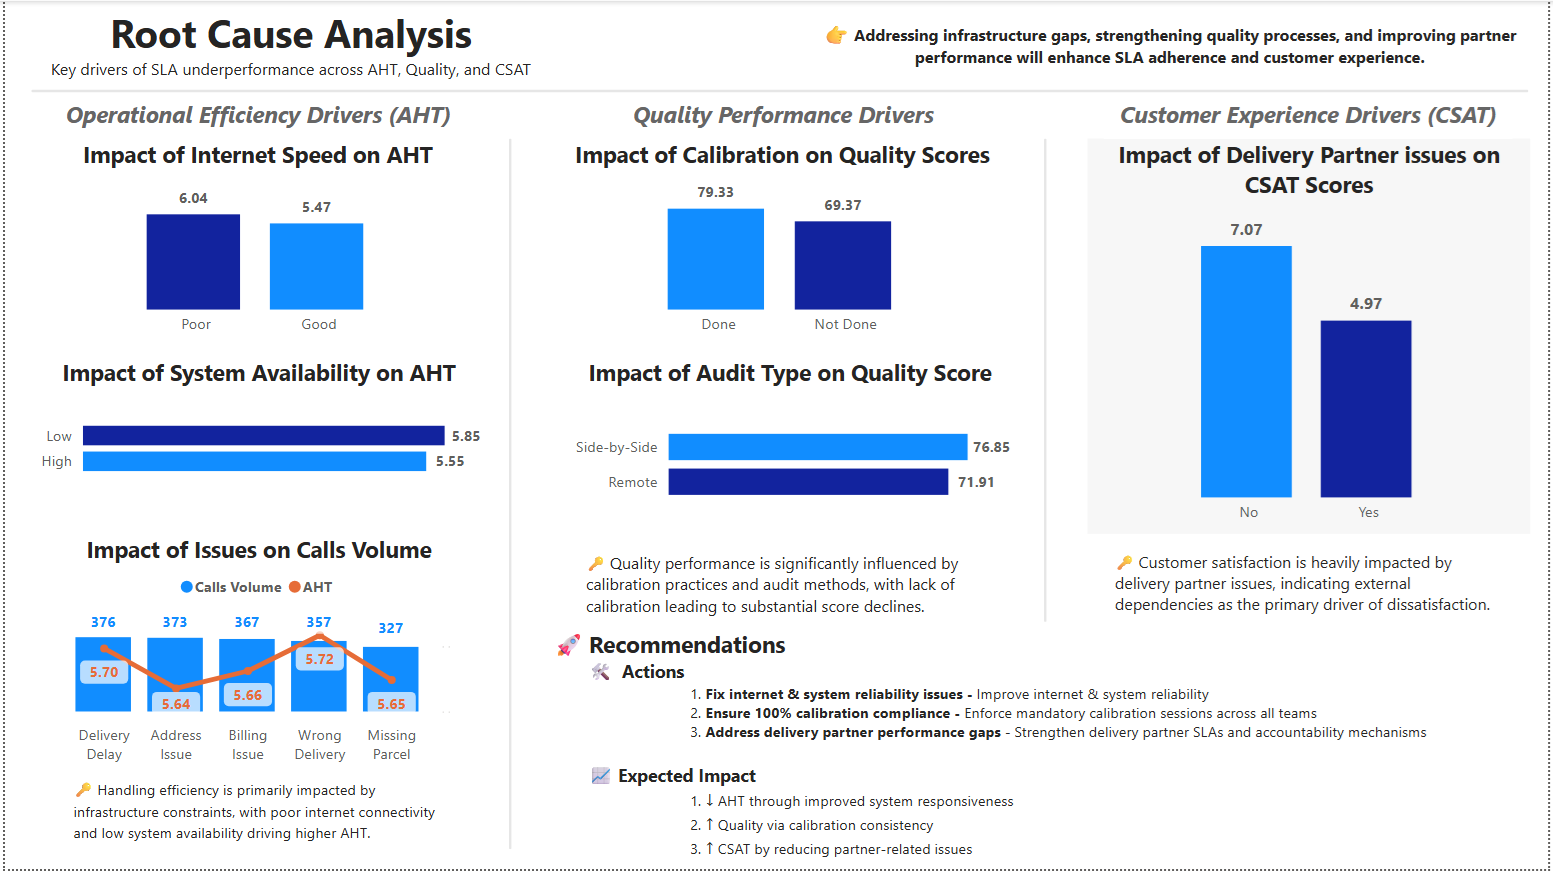

Layout of this report page (visuals, bound fields, positions):
{"tool":"powerbi","page":{"name":"RCA","canvas":[1280,720],"ordinal":2},"visuals":[{"type":"textbox","box":[10.5,0,453.5,76.7],"z":0},{"type":"shape","box":[412.8,114,12.8,589.5],"z":1000},{"type":"textbox","box":[40.7,76.6,339.5,37.2],"z":2000},{"type":"lineClusteredColumnComboChart","title":"Impact of Issues on Calls Volume","fields":{"Category":["Process_Data.Issue_Type"],"Y":["CountNonNull(Process_Data.Call_Volume)"],"Y2":["_Measures.AHT"]},"box":[22.1,441.9,377.9,198.8],"z":3000},{"type":"clusteredBarChart","title":"Impact of Audit Type on Quality Score","fields":{"Category":["Process_Data.Audit_Type"],"Y":["_Measures.Quality Score"]},"box":[464,295.3,375.6,146.5],"z":4000},{"type":"clusteredColumnChart","title":"Impact of Calibration on Quality Scores","fields":{"Category":["Process_Data.Calibration_Status"],"Y":["_Measures.Quality Score"]},"box":[450,114,389.5,172.1],"z":5000},{"type":"clusteredColumnChart","title":"Impact of Internet Speed on AHT","fields":{"Category":["Process_Data.Internet_Speed"],"Y":["_Measures.AHT"]},"box":[20.9,114,377.9,172.1],"z":6000},{"type":"clusteredBarChart","title":"Impact of System Availability on AHT","fields":{"Y":["_Measures.AHT"],"Category":["Process_Data.System_Availability"]},"box":[21.8,295.3,377.9,119.8],"z":7000},{"type":"clusteredColumnChart","title":"Impact of Delivery Partner issues on CSAT Scores","fields":{"Category":["Process_Data.Partner_Issue"],"Y":["_Measures.CSAT Score"]},"box":[897.7,114,367.4,327.9],"z":8000},{"type":"shape","box":[857,114,12.8,401.2],"z":9000},{"type":"textbox","box":[476.2,76.6,339.5,37.2],"z":10000},{"type":"textbox","box":[911.6,76.6,339.5,37.2],"z":11000},{"type":"textbox","box":[52.3,639.5,318.6,64],"z":12000},{"type":"textbox","box":[476.7,452.3,334.9,64],"z":13000},{"type":"textbox","box":[915.1,451.2,331.4,64],"z":14000},{"type":"textbox","box":[450,516.3,815.1,203.5],"z":15000},{"type":"shape","box":[22.1,65.1,1241.9,18.6],"z":16000},{"type":"textbox","box":[666.3,10.5,598.8,54.7],"z":17000}]}

Visuals, with their boxes in screenshot pixels (x1, y1, x2, y2), scaled from the page's 1280x720 canvas onto the 1553x875 screenshot:
textbox: box=[13, 0, 563, 93]
shape: box=[501, 139, 516, 855]
textbox: box=[49, 93, 461, 138]
"Impact of Issues on Calls Volume" lineClusteredColumnComboChart: box=[27, 537, 485, 779]
"Impact of Audit Type on Quality Score" clusteredBarChart: box=[563, 359, 1019, 537]
"Impact of Calibration on Quality Scores" clusteredColumnChart: box=[546, 139, 1019, 348]
"Impact of Internet Speed on AHT" clusteredColumnChart: box=[25, 139, 484, 348]
"Impact of System Availability on AHT" clusteredBarChart: box=[26, 359, 485, 504]
"Impact of Delivery Partner issues on CSAT Scores" clusteredColumnChart: box=[1089, 139, 1535, 537]
shape: box=[1040, 139, 1055, 626]
textbox: box=[578, 93, 990, 138]
textbox: box=[1106, 93, 1518, 138]
textbox: box=[63, 777, 450, 855]
textbox: box=[578, 550, 985, 627]
textbox: box=[1110, 548, 1512, 626]
textbox: box=[546, 627, 1535, 874]
shape: box=[27, 79, 1534, 102]
textbox: box=[808, 13, 1535, 79]
